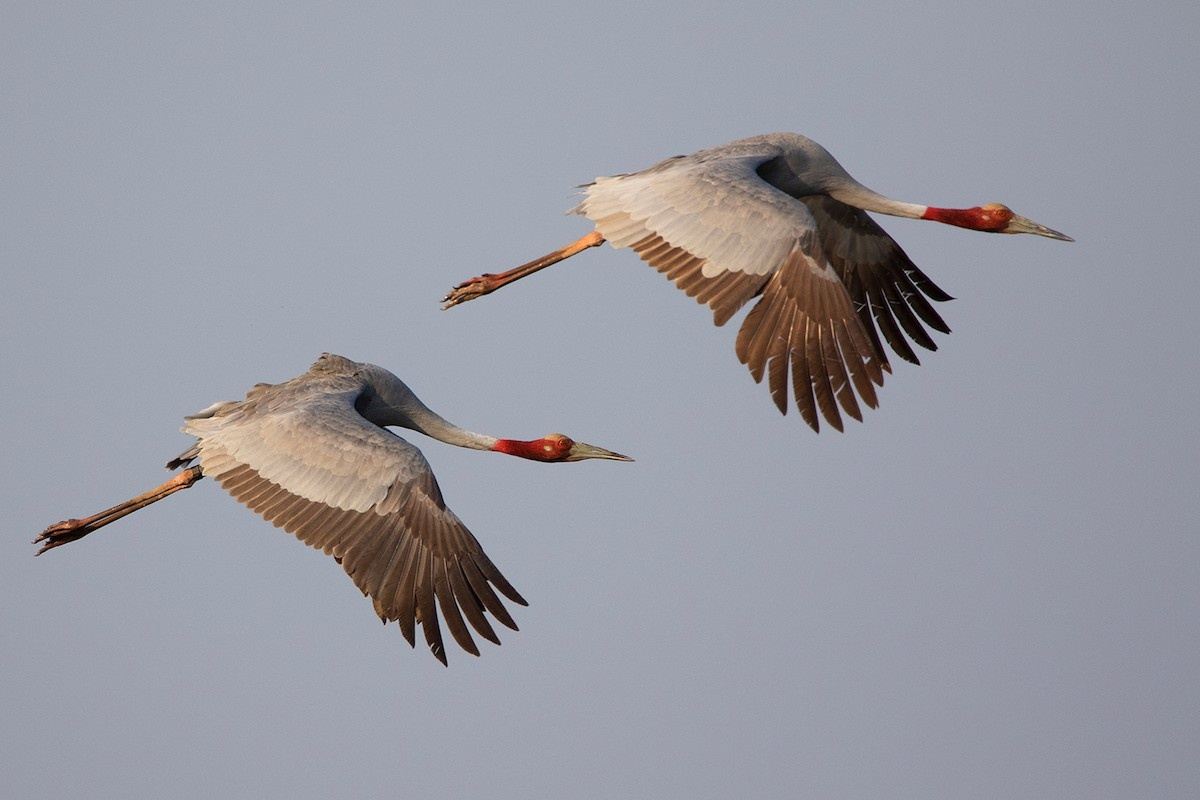crane: (433, 121, 1100, 426), (22, 355, 640, 665)
